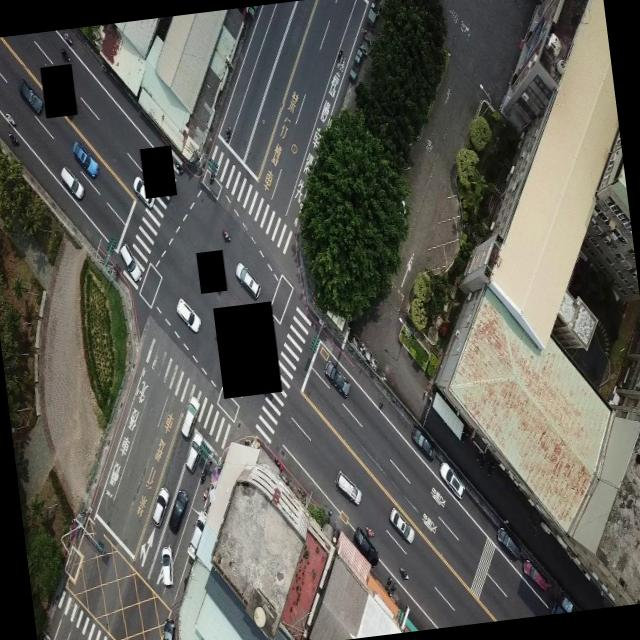bike: (220, 226, 230, 244), (397, 564, 408, 580), (335, 45, 343, 66)
car: (58, 160, 86, 208), (71, 137, 100, 180), (437, 458, 466, 501), (164, 488, 191, 533), (234, 259, 262, 302), (464, 112, 494, 152), (334, 467, 362, 508), (117, 240, 143, 284), (150, 480, 172, 530), (18, 76, 44, 118), (387, 504, 414, 544), (174, 296, 202, 334), (324, 358, 349, 400), (351, 524, 377, 564), (523, 556, 550, 594), (156, 544, 178, 588), (180, 432, 204, 472), (495, 523, 519, 562), (176, 401, 200, 439), (410, 426, 435, 462), (154, 610, 182, 640), (349, 44, 369, 78), (553, 595, 576, 613), (131, 174, 145, 202)
